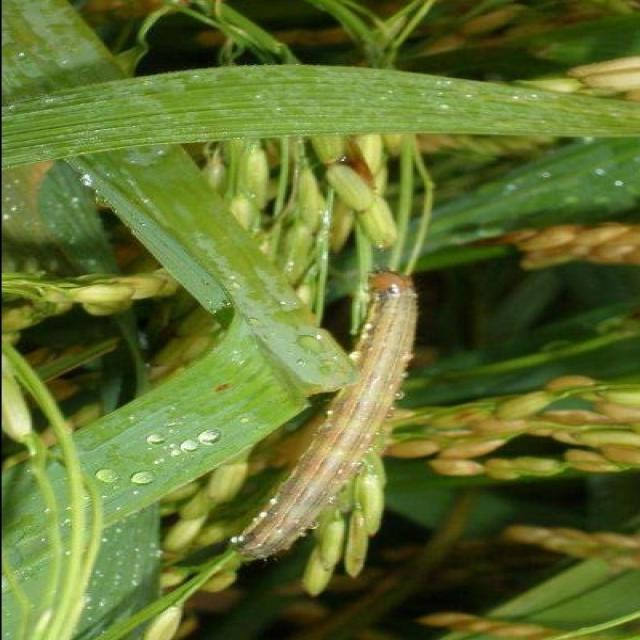army worm: (226, 268, 432, 568)
